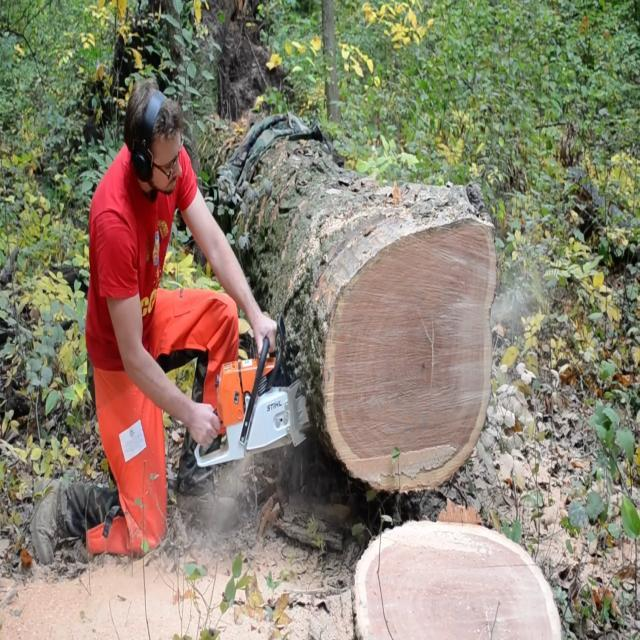Chainsaw: (185, 317, 320, 480)
